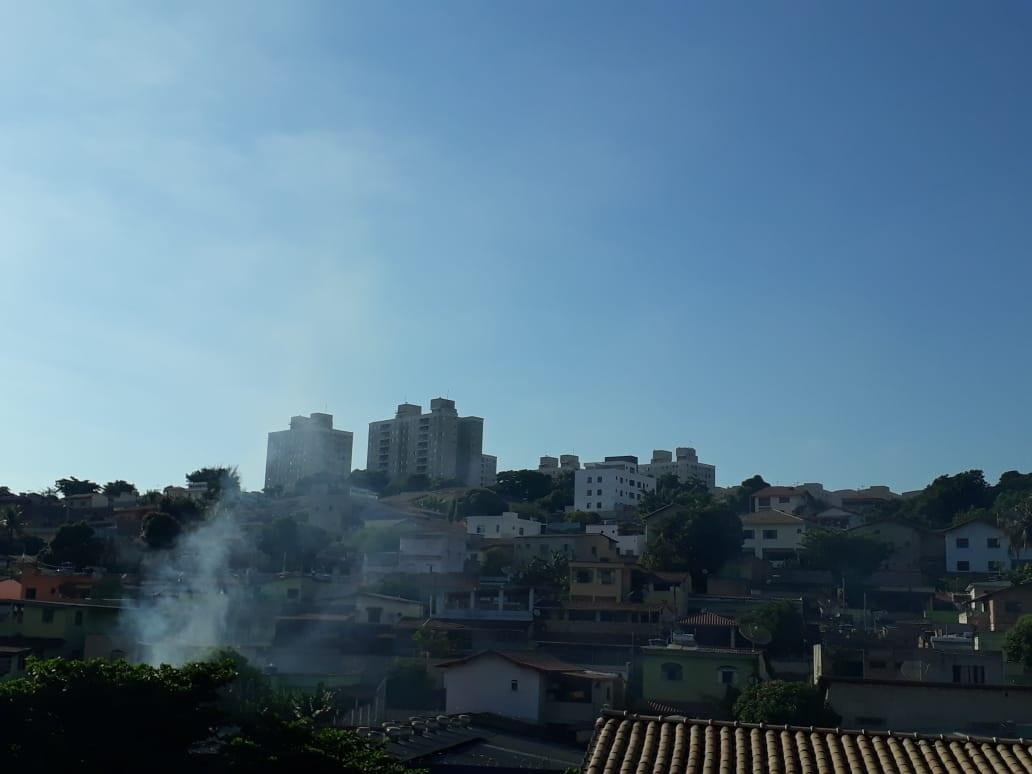smoke: (154, 566, 218, 664)
